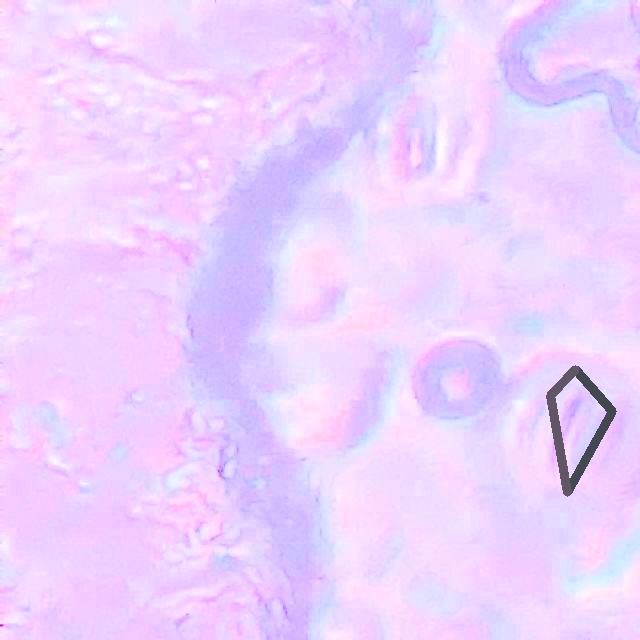open: (546, 365, 616, 496)
